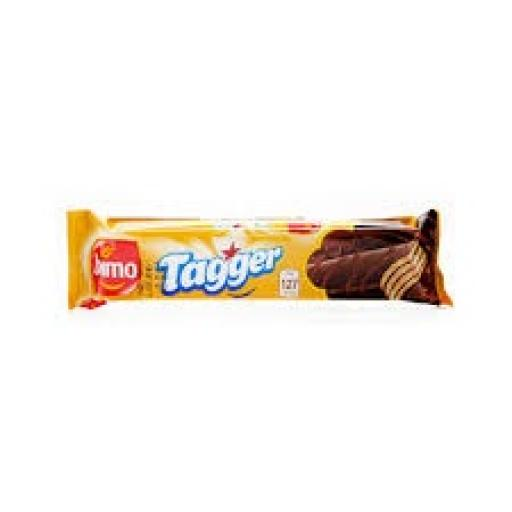tagger: (35, 153, 470, 402)
